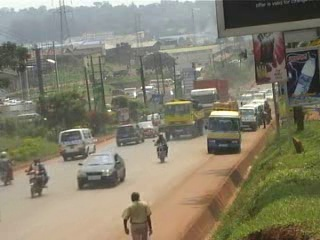Car: (74, 146, 130, 192), (113, 124, 145, 146), (135, 119, 158, 138)
Motorcycle: (20, 157, 51, 199), (149, 131, 170, 163), (0, 147, 14, 190)
